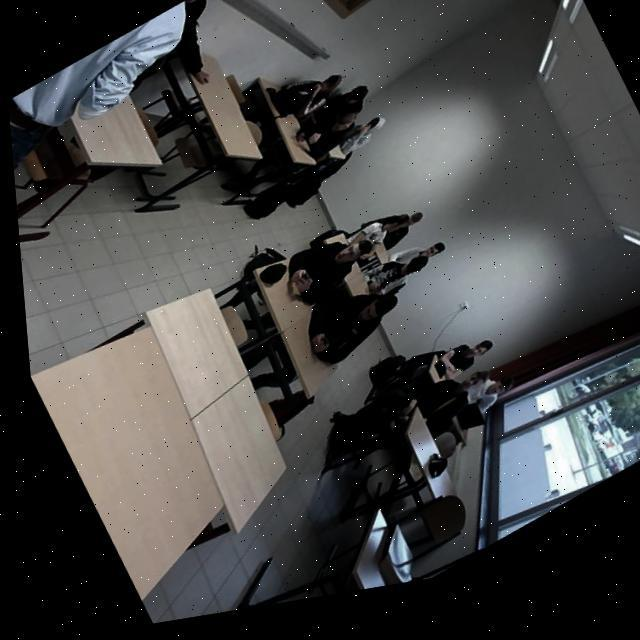phone_use: (308, 291, 395, 362), (286, 229, 366, 303), (307, 85, 366, 146), (295, 110, 359, 160), (368, 250, 427, 294)
